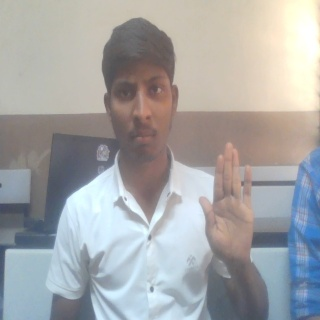Face: (100, 17, 180, 167)
Hello: (198, 141, 255, 267)
